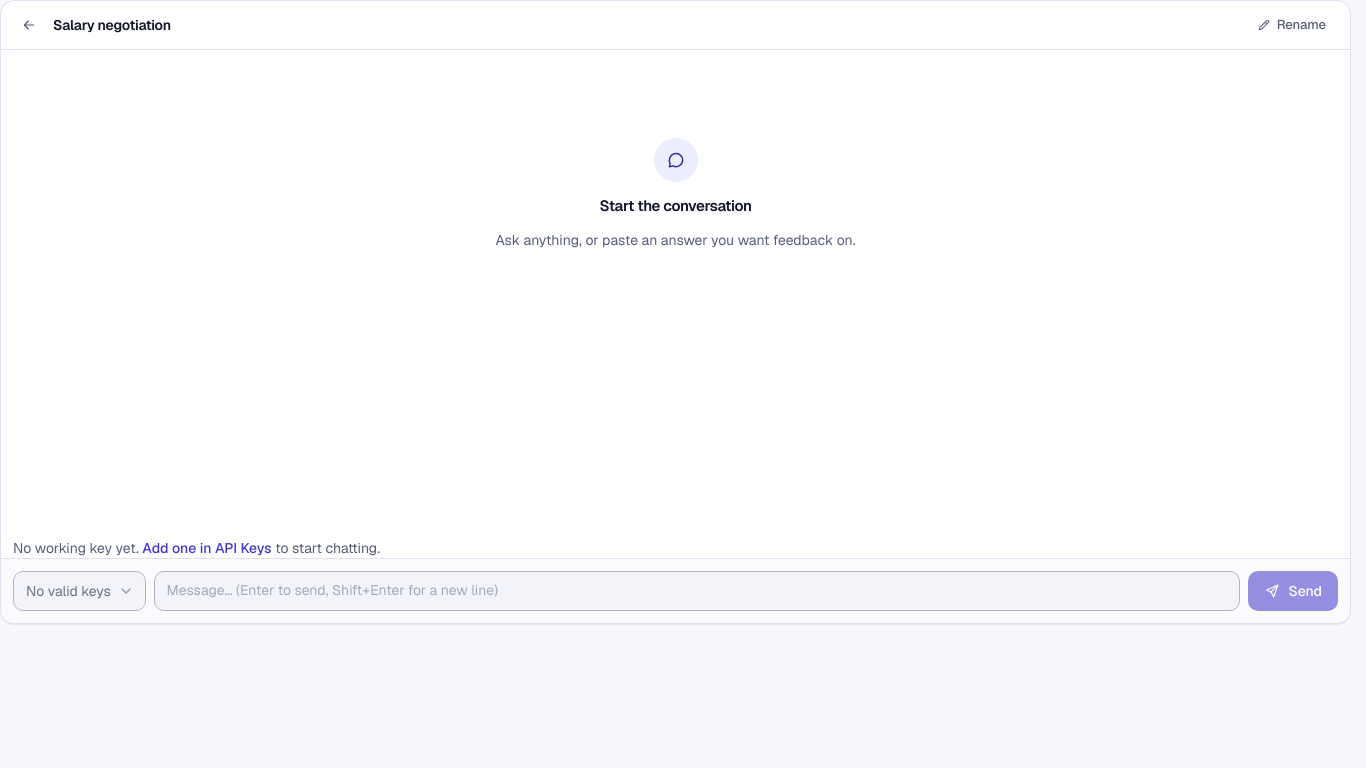
Test: ChatThreadView rename › shows the title in a header and renames it from there
This screenshot has width=1366, height=768.
Expected: the heading "Salary negotiation" is shown, [53, 16, 171, 34]
Click the button with aria-label "Rename this chat". click: click(1291, 25)
box: [1245, 9, 1338, 41]
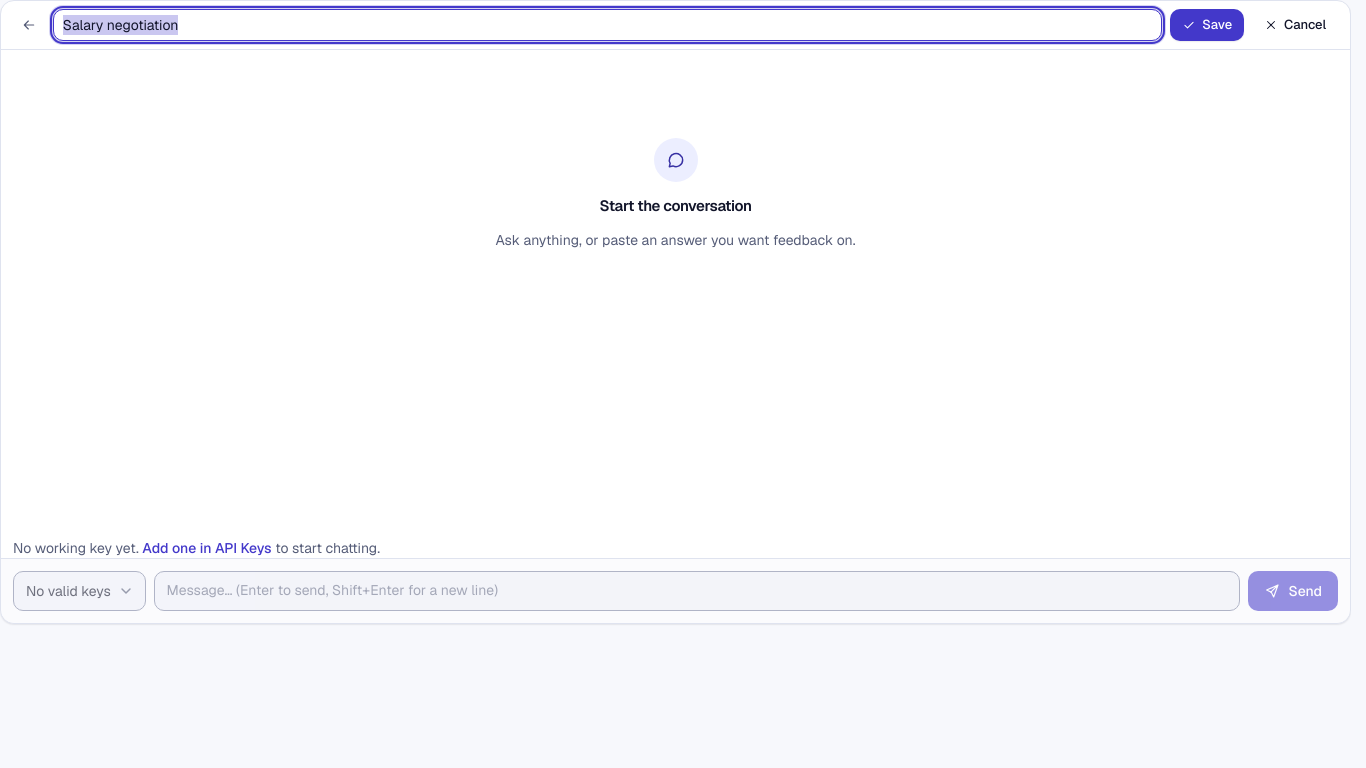
Replace the text in the field named "New title for this chat" with "New plan". click: (608, 25)
box: [53, 9, 1162, 41]
Then press Enter
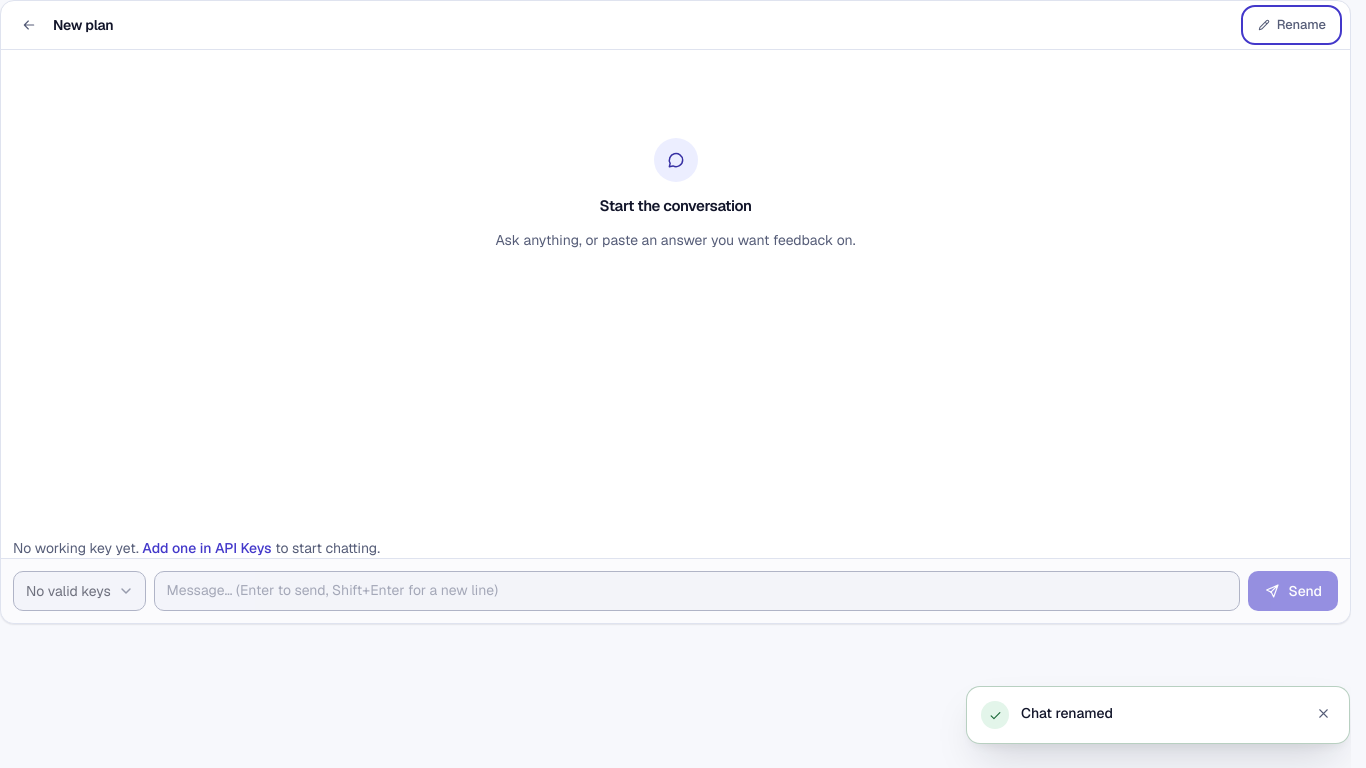
Expected: the heading "New plan" is shown, [53, 16, 114, 34]
Expected: the text "Chat renamed" is shown, [1021, 704, 1113, 722]
